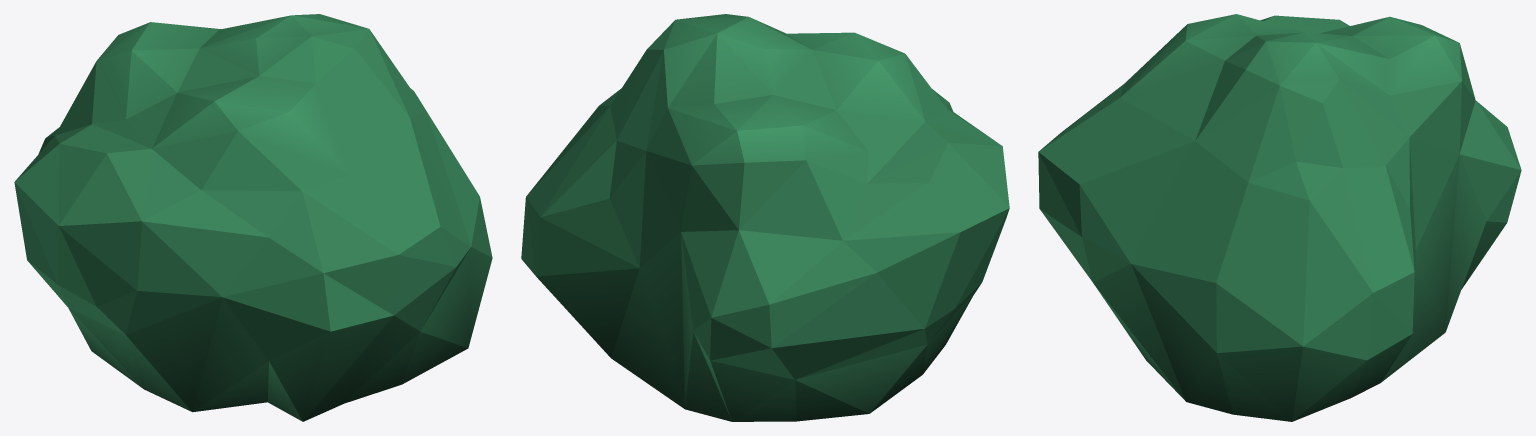
Rendered from Bush3.fbx.
The picture shows the model from 3 angles, left to right: view 1: azimuth 30°, elevation 25°; view 2: azimuth 150°, elevation 25°; view 3: azimuth 270°, elevation 25°; orthographic projection. The views are drawn at different scales.
Parts seen in each view (by area): view 1: Bush3; view 2: Bush3; view 3: Bush3.
Part boxes in pixels (left/top/right/bottom): Bush3: left=14, top=14, right=492, bottom=421; Bush3: left=521, top=14, right=1009, bottom=421; Bush3: left=1038, top=14, right=1521, bottom=421.
Size of the model in its own units: 1.7 by 1.65 by 1.15.
